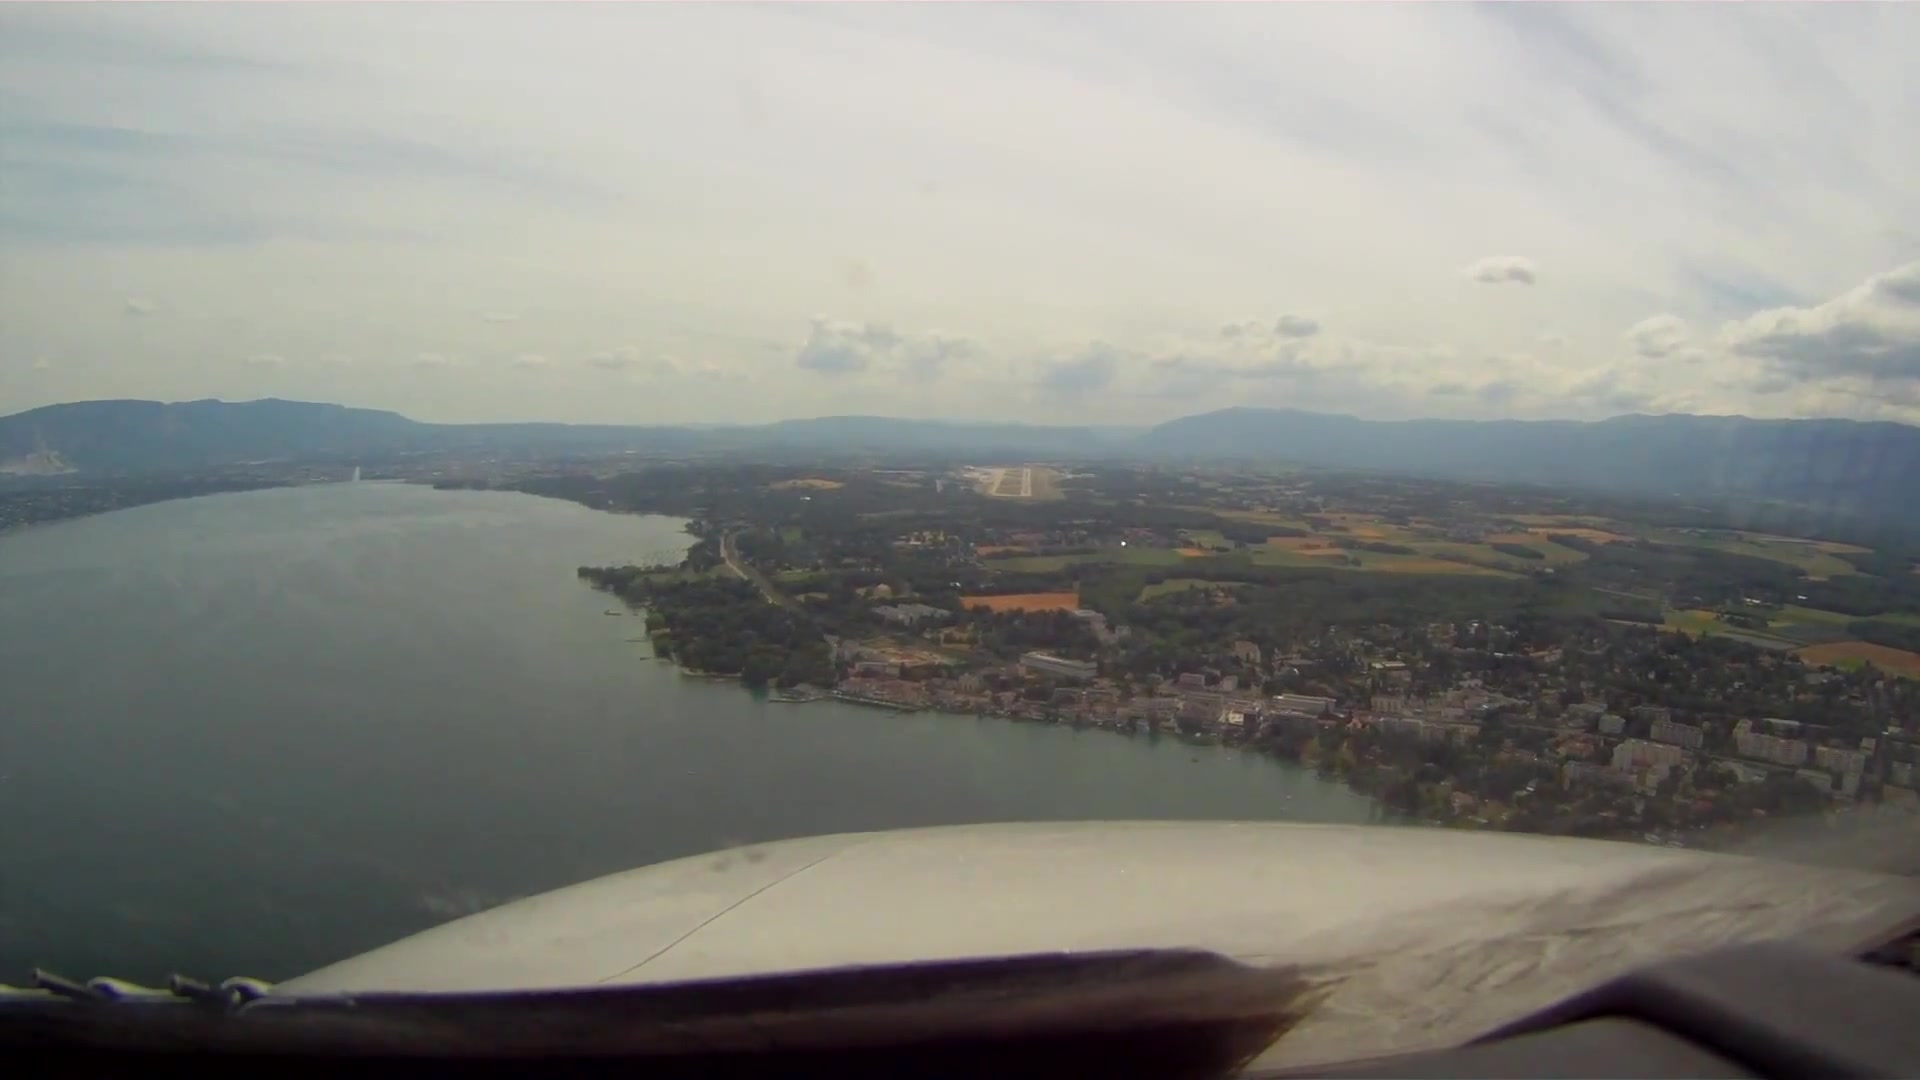runway: (1019, 467, 1033, 498)
